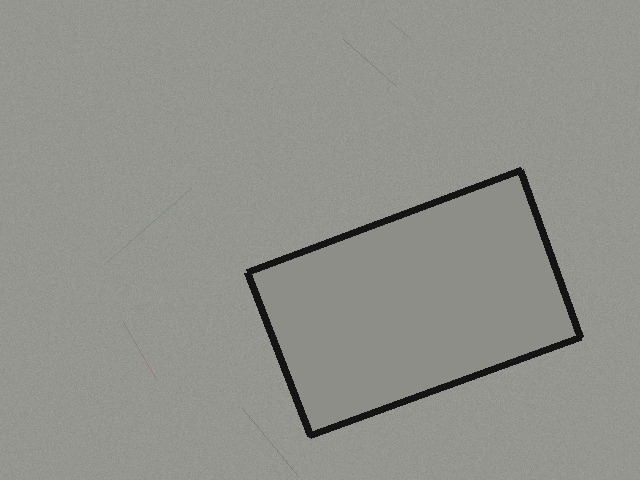parking_area: (247, 170, 580, 435)
